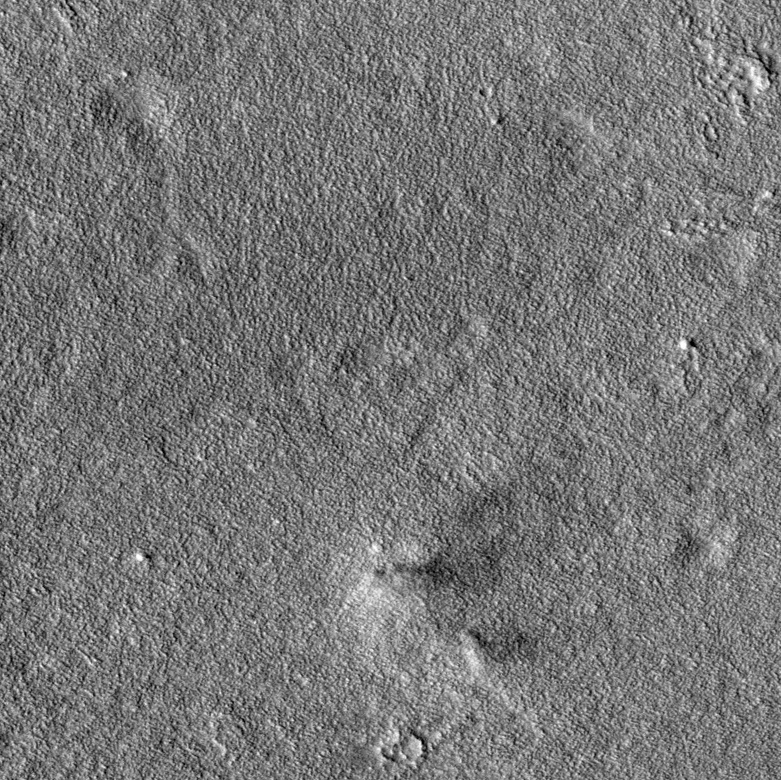dust_devil: (350, 532, 506, 619), (456, 620, 544, 682)
